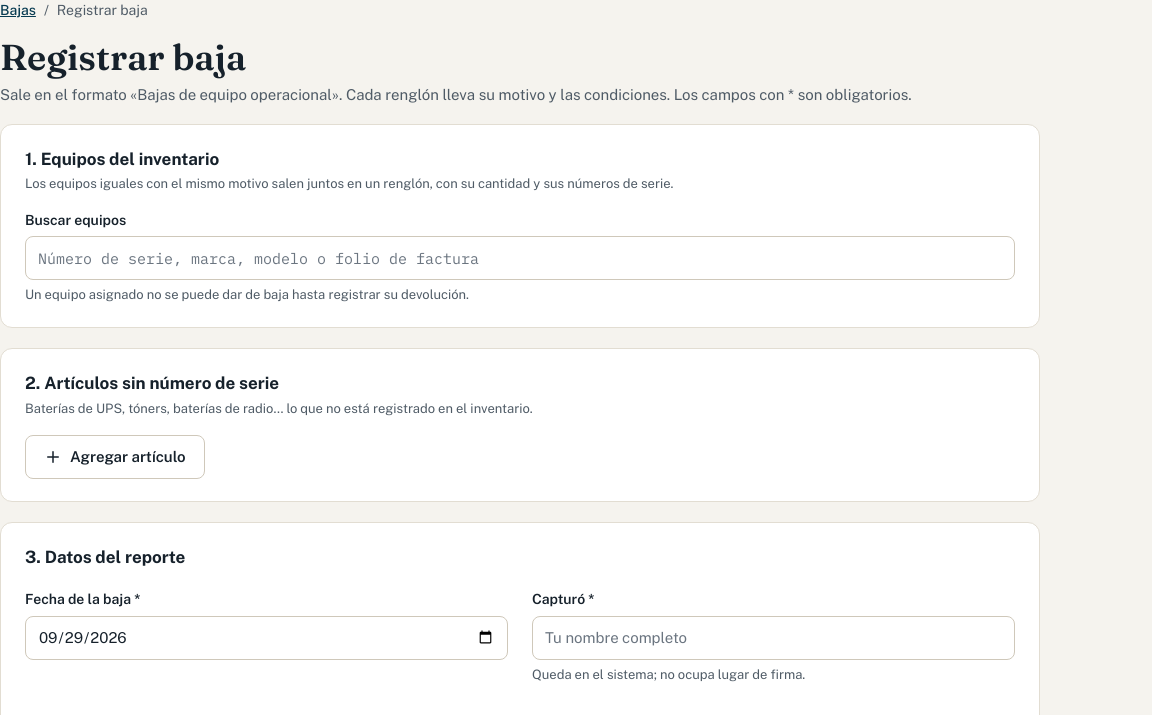
Test: Registrar baja › un equipo asignado no se puede marcar y explica por qué
Type "SN" into the search field with id "buscar-baja" at coordinates (520, 258), box [25,236,1015,280]
Wait 300 ms
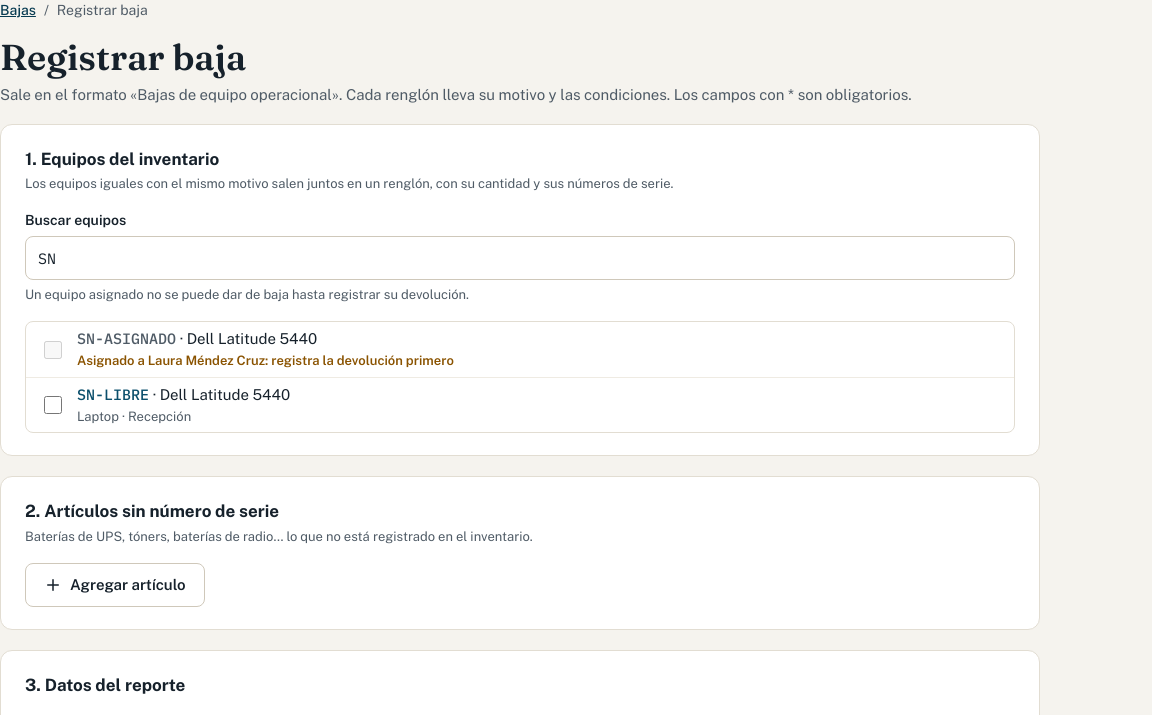
Now the 1st checkbox is disabled, box [44,341,62,359]
Now the label with class "fila" shows "Asignado a Laura Méndez Cruz: registra la devolución primero", box [77,353,454,368]
Now the checkbox labelled "SN-LIBRE · Dell Latitude 5440 Laptop · Recepción" is enabled, box [44,396,62,414]
